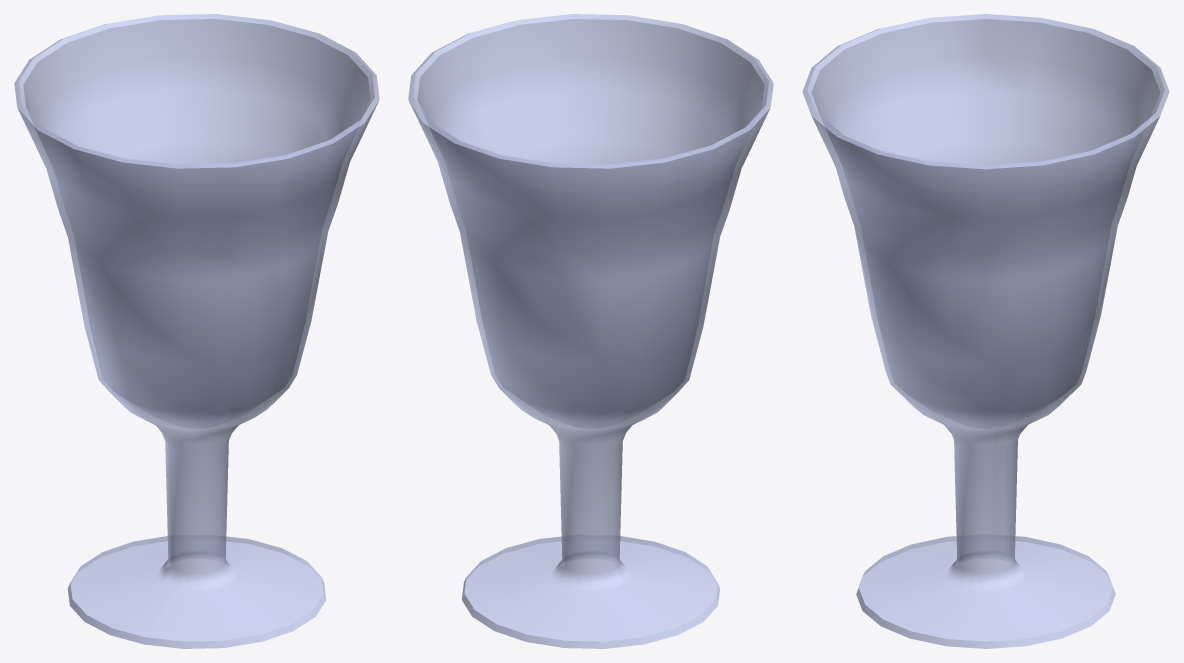
Rendered from wineglass_c02.fbx.
3 views of the same model, side by side, from view 1: azimuth 30°, elevation 25°; view 2: azimuth 150°, elevation 25°; view 3: azimuth 270°, elevation 25° (orthographic).
Visible parts, largest first — view 1: wineglass_c02; view 2: wineglass_c02; view 3: wineglass_c02.
Boxes of the visible parts, x1,y1,x2,y2 form: wineglass_c02: (14, 14, 379, 648); wineglass_c02: (408, 14, 773, 648); wineglass_c02: (802, 14, 1169, 648).
Bounding box in the file's own units: 9.14 × 13.86 × 9.14.
